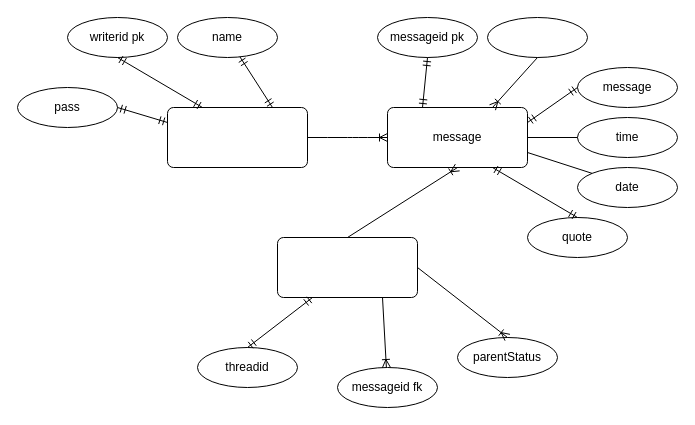
Image size: 695x425. Some labels were removed from this diagram. The centre of each missing label's shape, as x and y in pixels:
thread: (x=347, y=267)
writer: (x=237, y=137)
writerid fk: (x=537, y=37)
